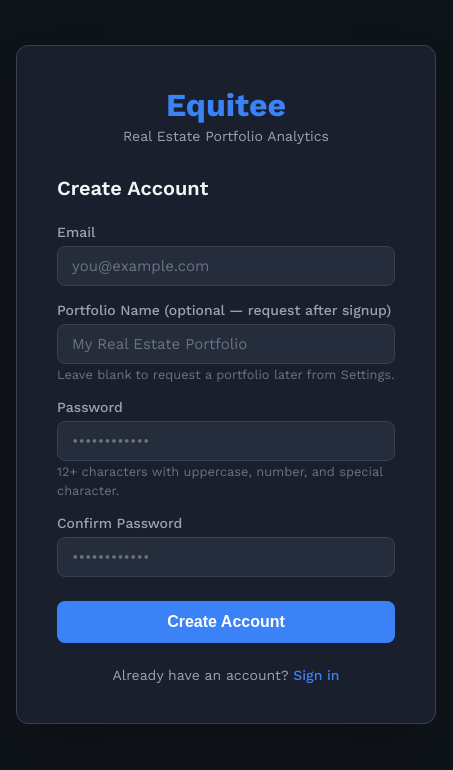
it: RegisterPage › shows error when password is too short
In the field labelled "Email": (226, 266) [57,246,395,286], type "test@example.com"
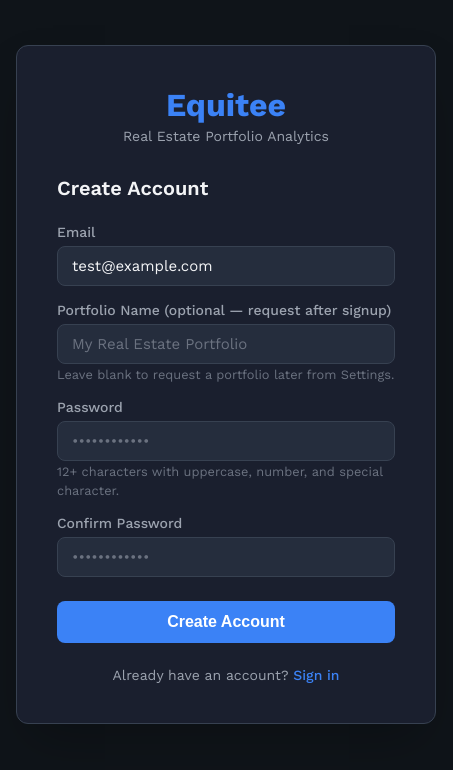
In the password field labelled "Password": (226, 440) [57,420,395,460], type "short"
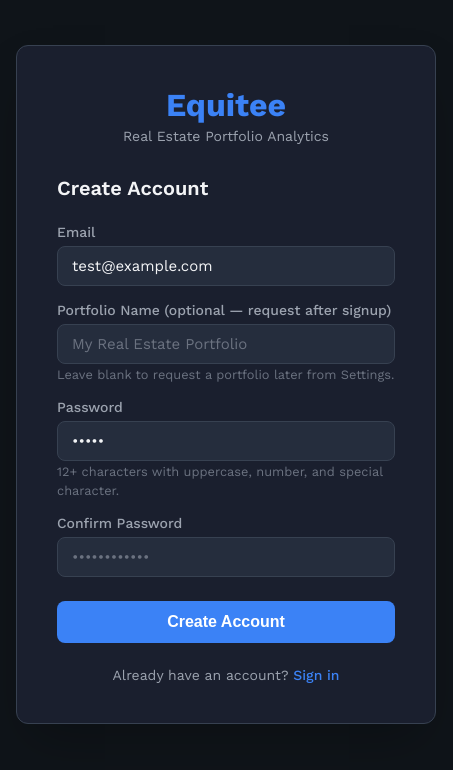
In the password field labelled "Confirm Password": (226, 556) [57,536,395,576], type "short"
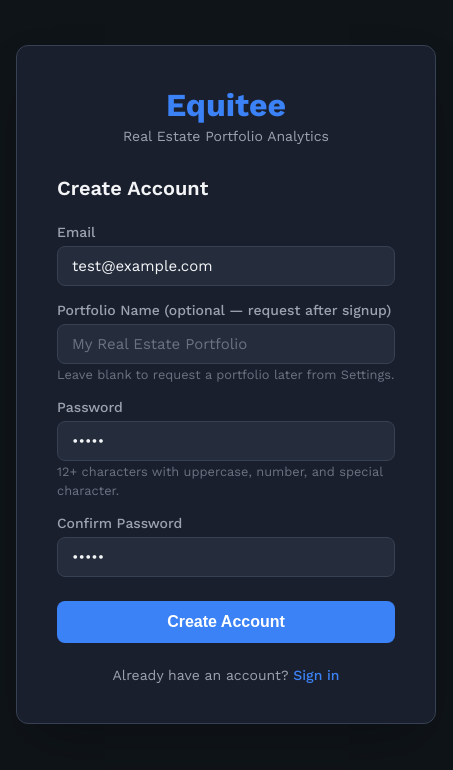
Click the button "Create Account": (226, 622) [57,600,395,642]
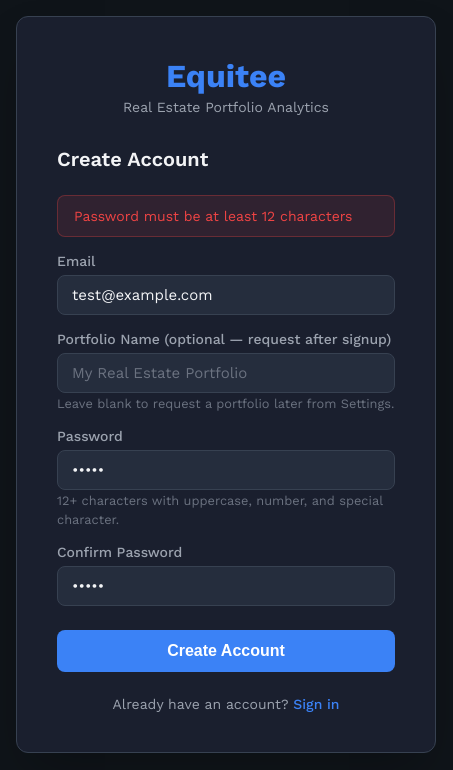
Expected: the text "Password must be at least 12 characters" is shown, [57,194,395,236]
